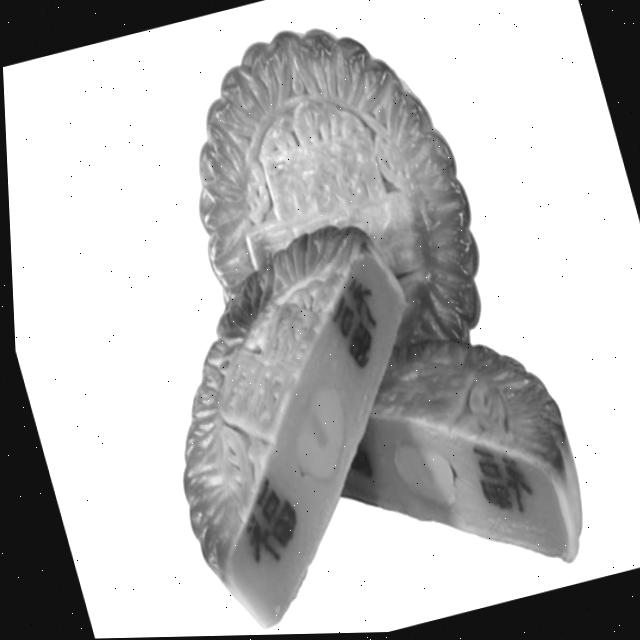蛋糕甜品: (52, 0, 619, 639)
